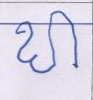i_matra: (53, 9, 84, 68)
